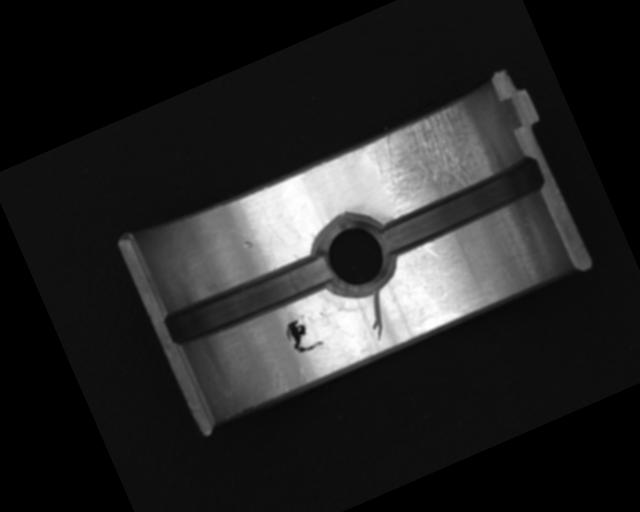blot: (280, 311, 325, 358)
bruise: (240, 238, 256, 252)
gap: (160, 242, 340, 354), (376, 154, 549, 258)
hole: (302, 203, 405, 307)
nick: (357, 288, 397, 343), (418, 239, 440, 263)
scratch: (360, 97, 504, 219)
